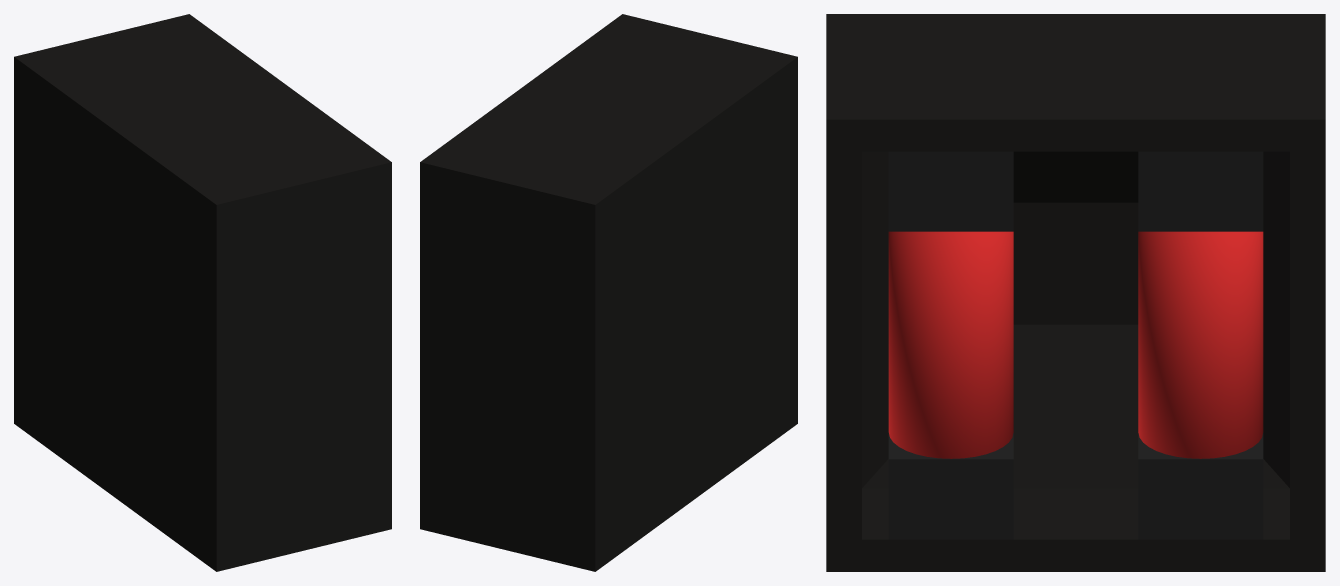
The model's file is BateryHolder.fbx.
3 renders of one model, left to right at view 1: azimuth 30°, elevation 25°; view 2: azimuth 150°, elevation 25°; view 3: azimuth 270°, elevation 25°, orthographic. The views are drawn at different scales.
Visible parts, largest first — view 1: Cube; view 2: Cube; view 3: Cube, Cylinder, Cylinder.001, Cube.001, Cube.002, Cube.003, Cube.004.
Part boxes in pixels (left/top/right/bottom): Cube: left=14, top=14, right=391, bottom=571; Cube: left=420, top=14, right=797, bottom=571; Cube: left=826, top=14, right=1325, bottom=571; Cylinder: left=888, top=231, right=1013, bottom=458; Cylinder.001: left=1138, top=231, right=1263, bottom=458; Cube.001: left=888, top=433, right=1013, bottom=539; Cube.002: left=1138, top=433, right=1263, bottom=539; Cube.003: left=1138, top=151, right=1263, bottom=231; Cube.004: left=888, top=151, right=1013, bottom=231.
Size of the model in its own units: 400 by 800 by 800.
